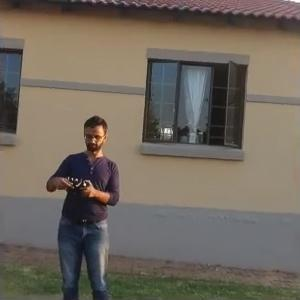follow: (41, 106, 128, 298)
